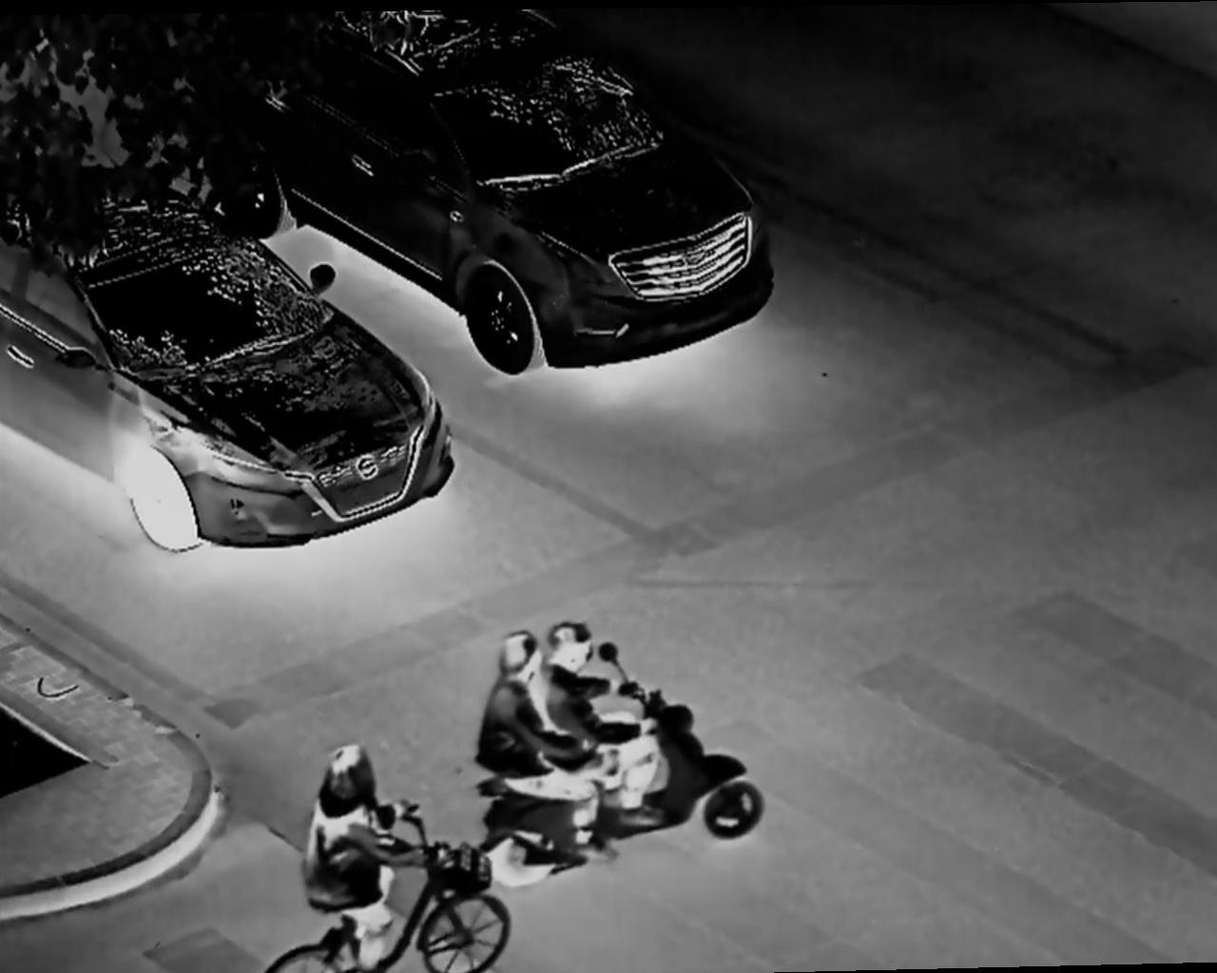person: (298, 739, 419, 972), (550, 620, 654, 836), (473, 630, 546, 876)
